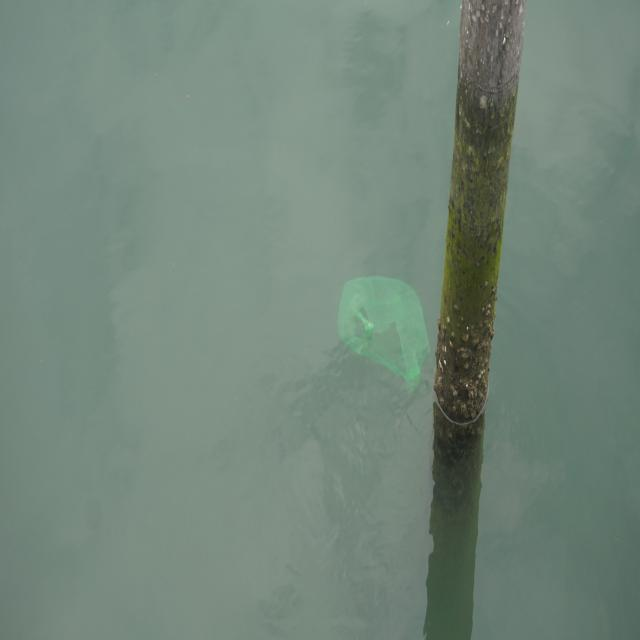Kantong Plastik: (337, 270, 434, 398)
